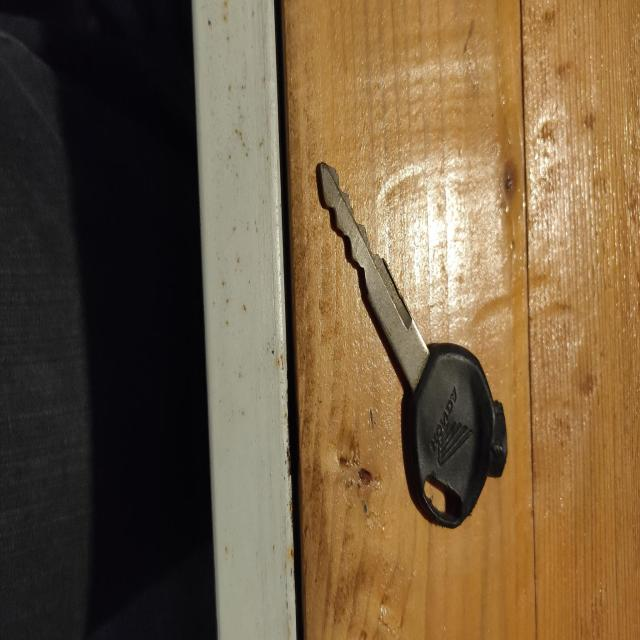kunci_motor: (315, 152, 510, 536)
